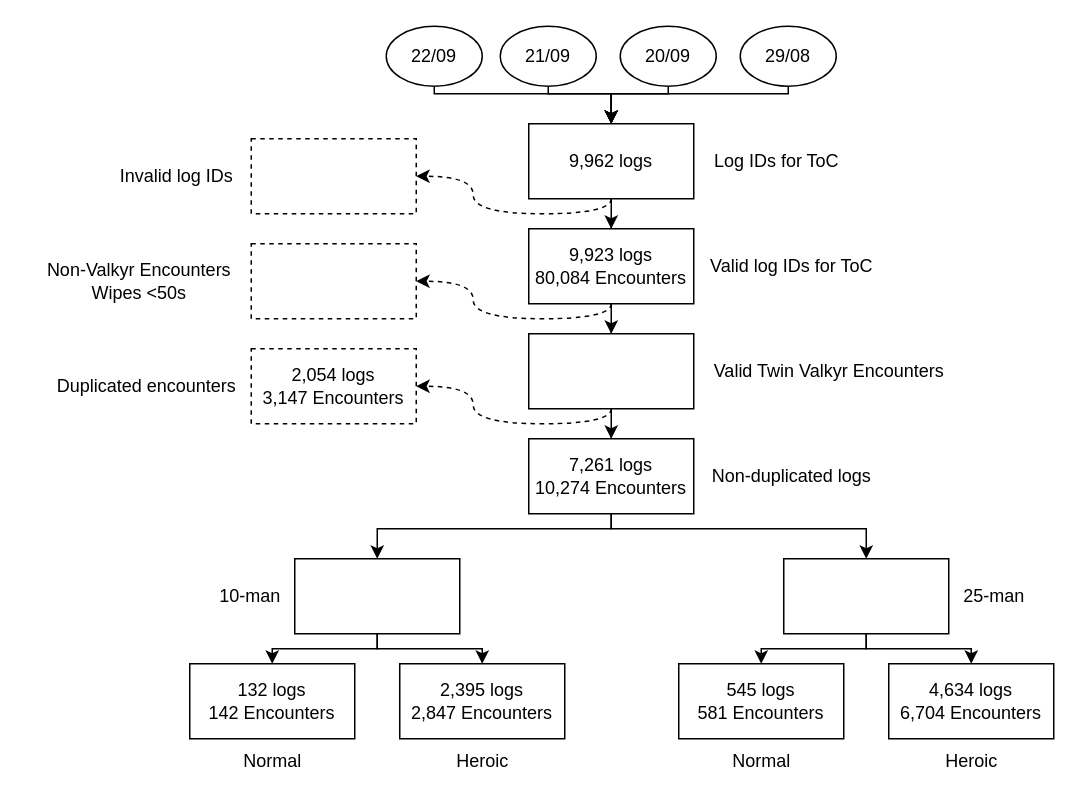
This 1080x810 diagram has some shape labels left out. Here are the shapes that lost their labels. From the top down, the centre of each, then its label:
pixel 333 175: 39 logs
pixel 333 280: 508 logs 66,517 Encounters
pixel 610 370: 9,415 logs 13,567 Encounters
pixel 376 595: 2,505 logs 2,989 Encounters
pixel 865 595: 5,065 logs 7,285 Encounters
